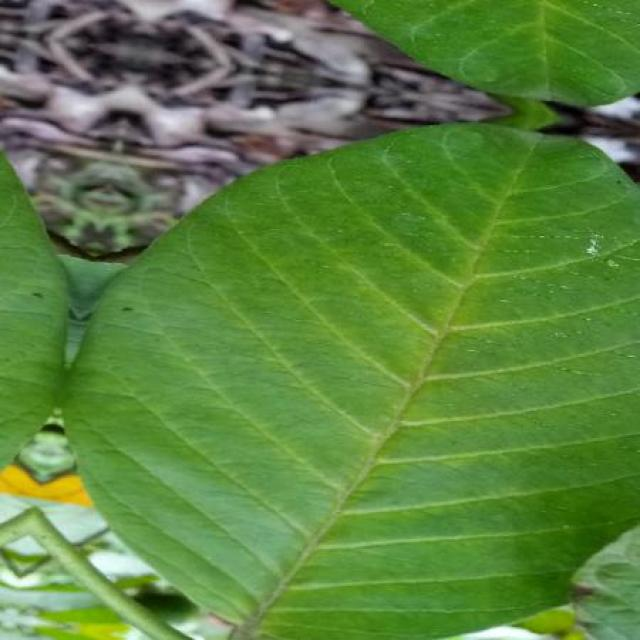Disease Free: (62, 125, 640, 640), (334, 0, 640, 104), (1, 154, 68, 467)
